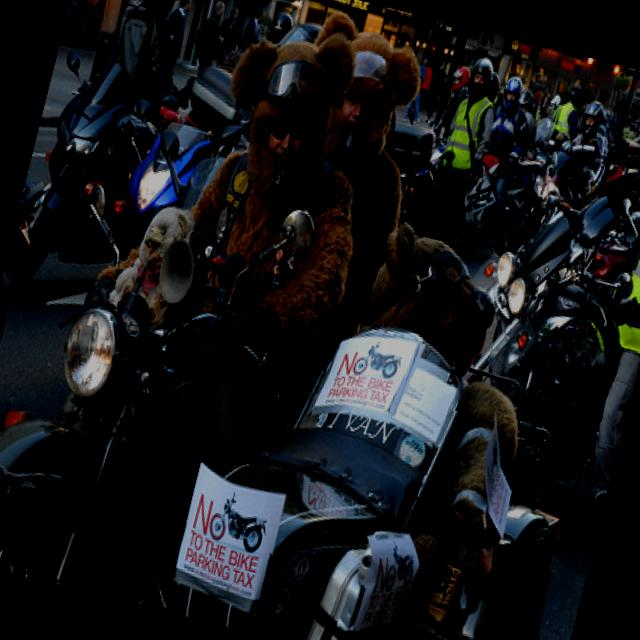Vehicle: (0, 140, 323, 619), (442, 200, 640, 483), (1, 46, 163, 302), (99, 97, 244, 266), (0, 175, 48, 497), (506, 141, 596, 267), (453, 148, 542, 264), (398, 118, 466, 238), (562, 185, 640, 284)
